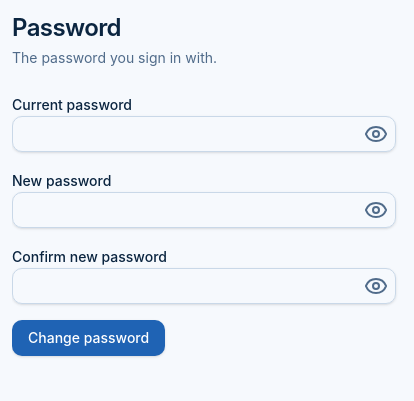
Scenario: UserPasswordPage › says under the field what is wrong, without sending
This screenshot has width=414, height=401.
Type "old-pass" into the password field labelled "Current password" at (204, 134), box [12,116,396,152]
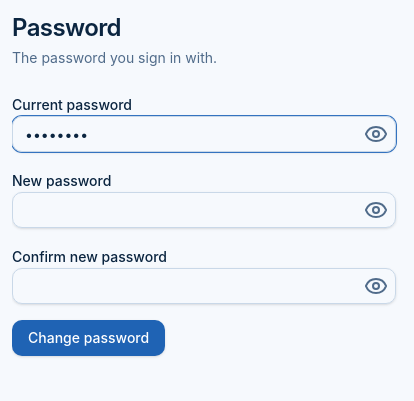
Type "new-pass" into the password field labelled "New password" at (204, 210), box [12,192,396,228]
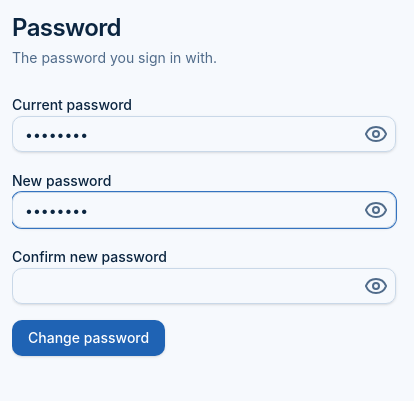
Type "other" into the password field labelled "Confirm new password" at (204, 286), box [12,268,396,304]
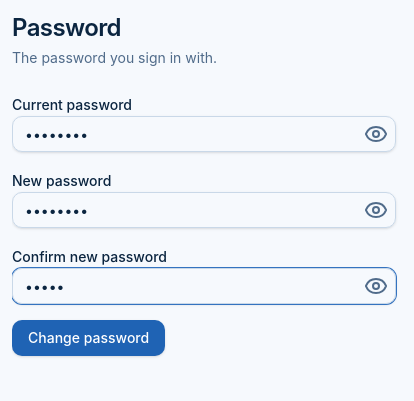
Click the button "Change password" at (89, 338), box [12,320,165,356]
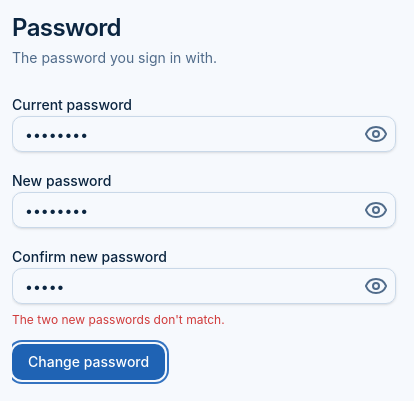
Check: the message reads "The two new passwords don't match.", box [12,312,225,327]
